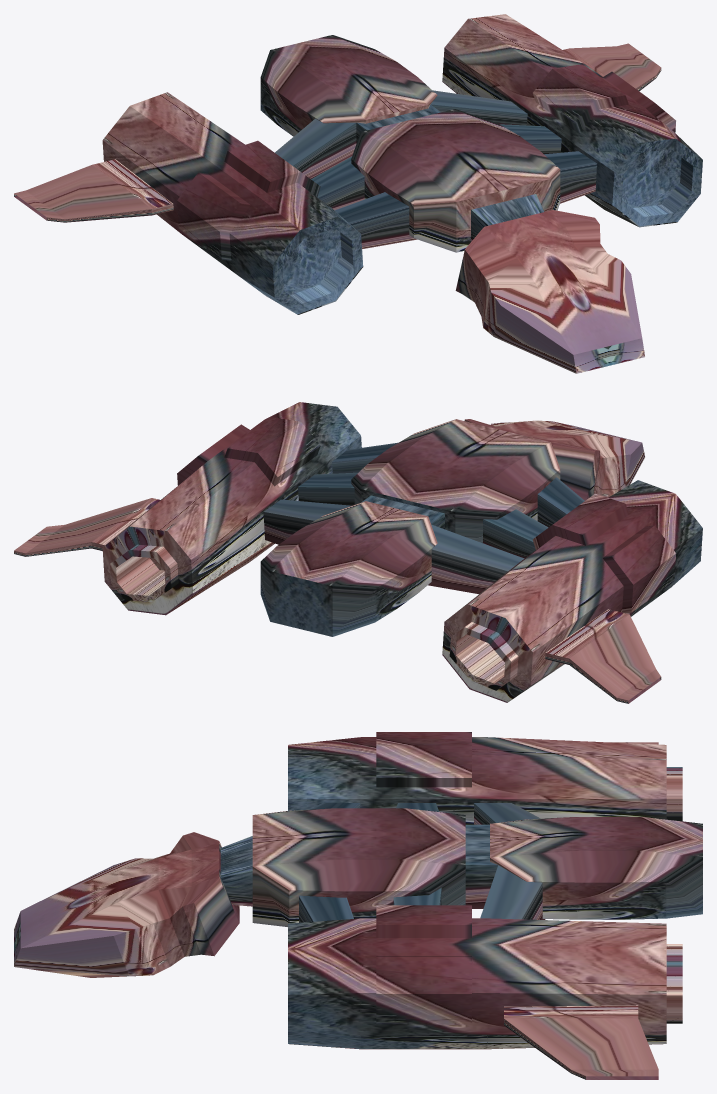
The model's file is carrier.glb.
The picture shows the model from 3 angles, top to bottom: view 1: azimuth 30°, elevation 25°; view 2: azimuth 150°, elevation 25°; view 3: azimuth 270°, elevation 25°; orthographic projection. The views are drawn at different scales.
Visible parts, largest first — view 1: M1_Ship_5; view 2: M1_Ship_5; view 3: M1_Ship_5.
Part boxes in pixels (x1,y1,x2,y2): M1_Ship_5: (14, 14, 702, 373); M1_Ship_5: (14, 402, 702, 703); M1_Ship_5: (14, 732, 702, 1079).
Size of the model in its own units: 59.63 by 11.15 by 52.
1 material, 1 textured.
